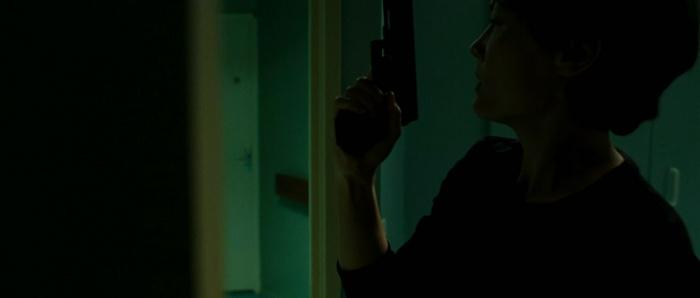Gun: (340, 0, 420, 159)
